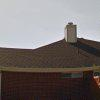Chimney: (59, 17, 81, 45)
